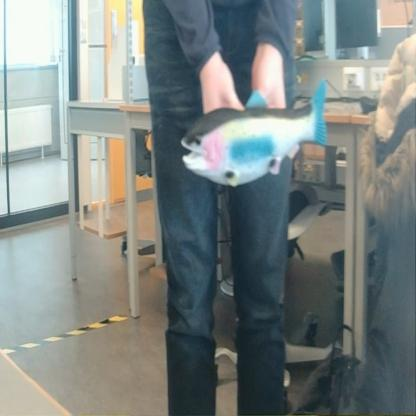rubberfish: (178, 75, 334, 194)
